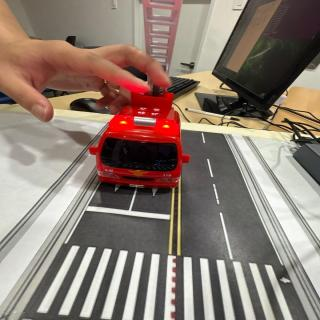Fire_truck: (89, 93, 190, 188)
